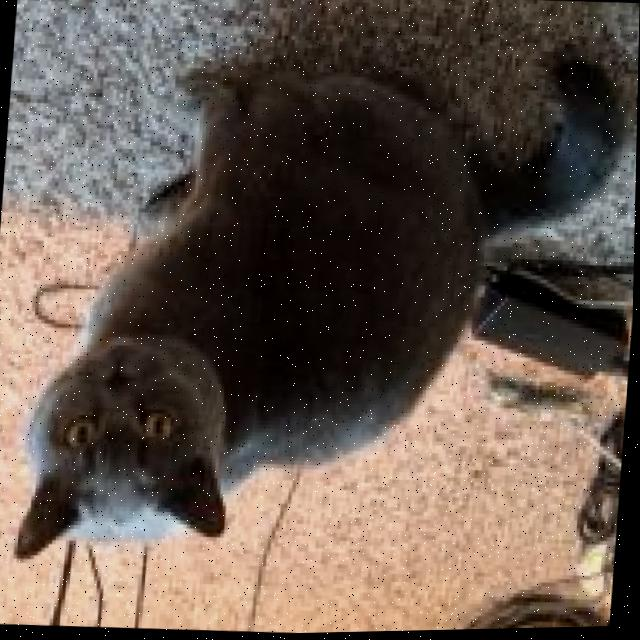British Shorthair: (11, 19, 633, 598)
